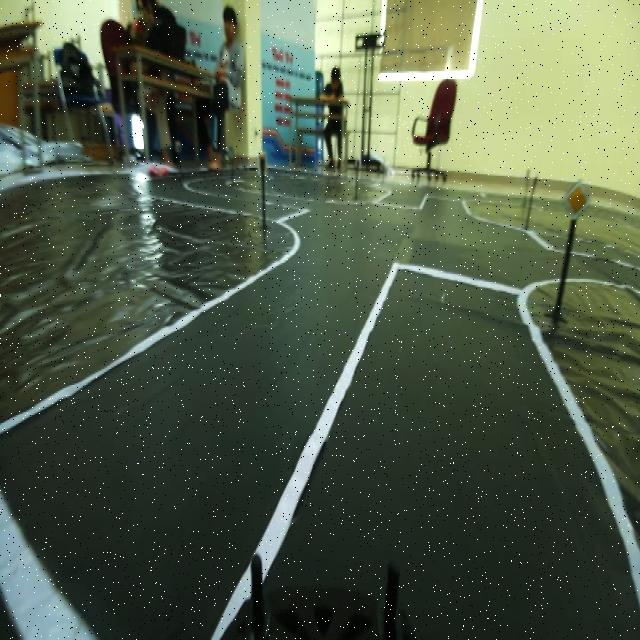priority: (563, 174, 591, 223)
